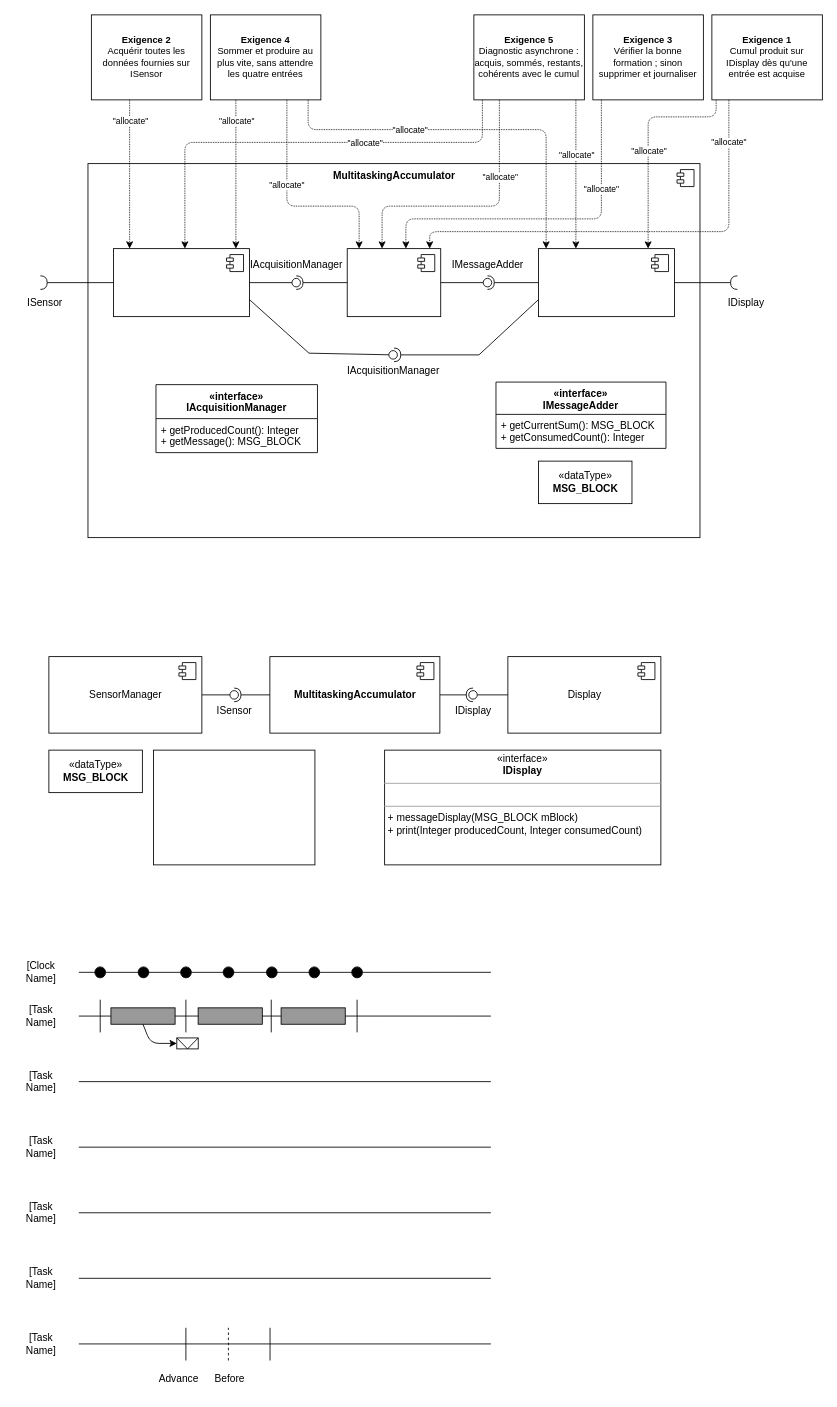
Some shapes in this 837 by 1407 pixel diagram are drawn without their labels. The shapes that lost their labels are listed below. From the top down, each one's centre as x and y in pixels, then its label:
the point at 181,282: AcquisitionManager
the point at 393,282: MessageAdder
the point at 606,282: DisplayManager
the point at 234,807: «interface» ISensor + getInput(int i): MSG_BLOCK
